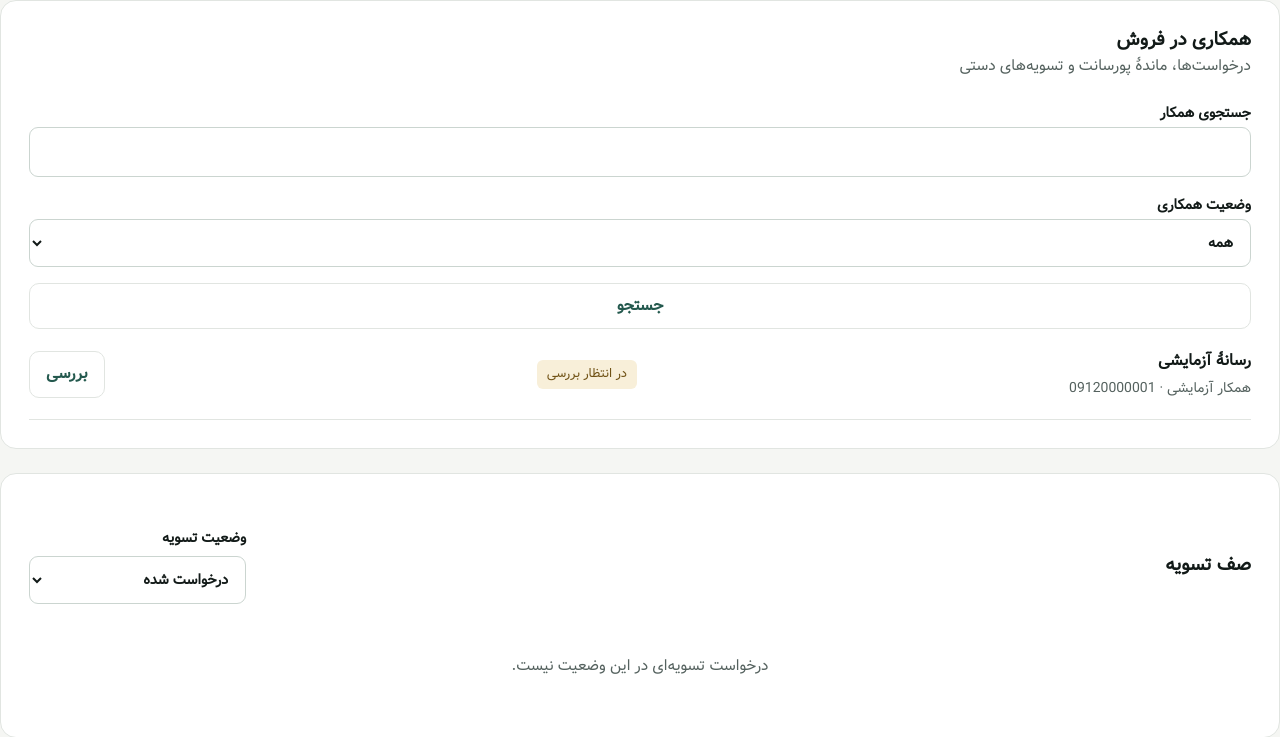
admin displays @math_channel as text, not a clickable URL
Click the button with aria-label "بررسی رسانهٔ آزمایشی".
click(67, 374)  # box [29,351,105,398]
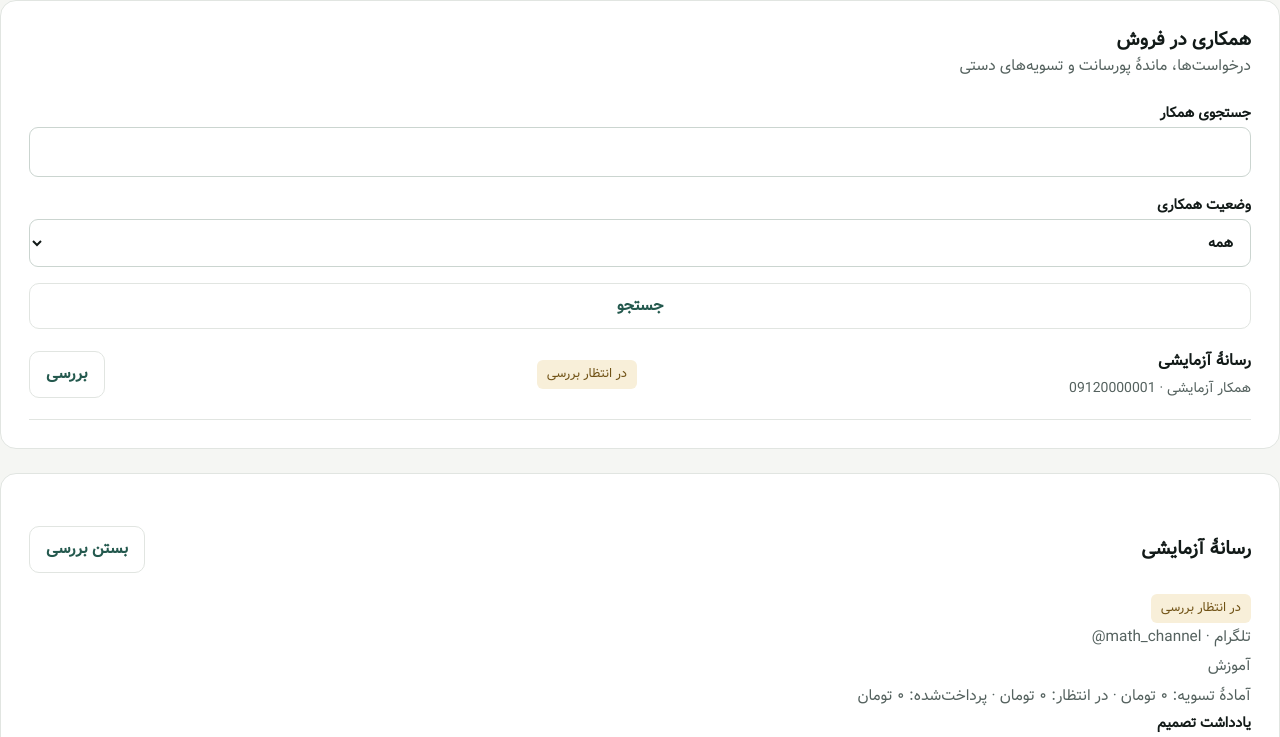
Expected: the text "@math_channel" is shown, [1092,625,1202,649]
Expected: the text "تلگرام · @math_channel" is shown, [1092,625,1251,649]
